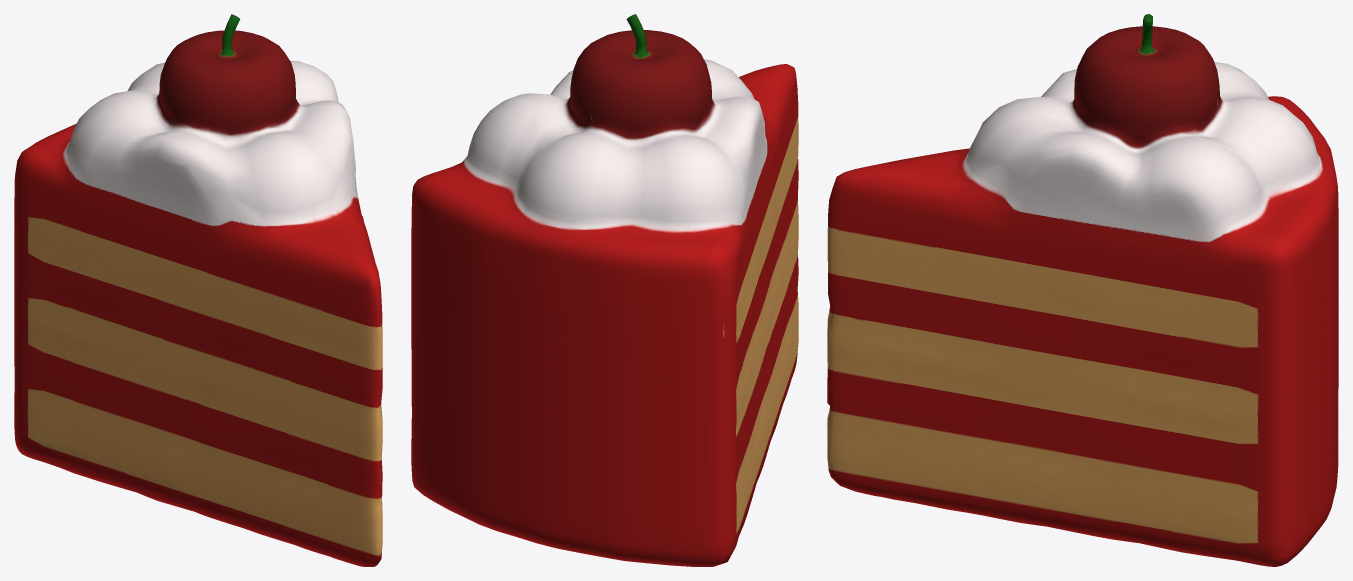
The model's file is red-3309.glb.
3 renders of one model, left to right at view 1: azimuth 30°, elevation 25°; view 2: azimuth 150°, elevation 25°; view 3: azimuth 270°, elevation 25°, orthographic. The views are drawn at different scales.
Parts seen in each view (by area): view 1: lopoly; view 2: lopoly; view 3: lopoly.
Part boxes in pixels (left/top/right/bottom): lopoly: left=14, top=14, right=382, bottom=566; lopoly: left=411, top=14, right=798, bottom=566; lopoly: left=827, top=14, right=1338, bottom=566.
Bounding box in the file's own units: 0.1427 × 0.2005 × 0.193.
1 material, 1 textured.
